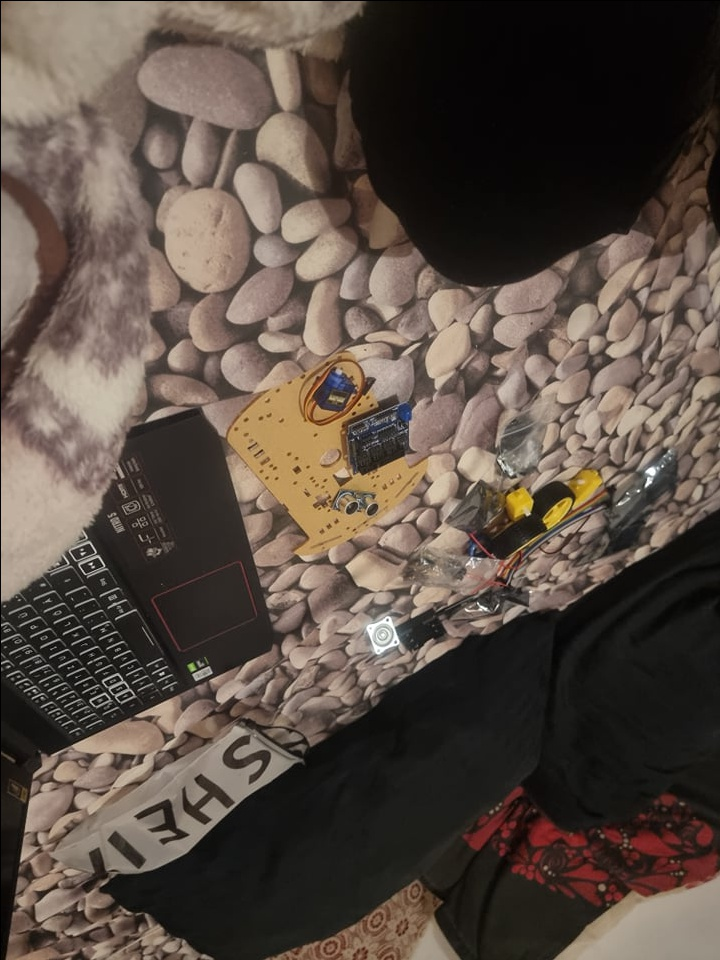5V EXPANSION: (340, 402, 417, 475)
BATTERY BOX: (395, 614, 449, 647)
SENSOR: (328, 491, 381, 518)
